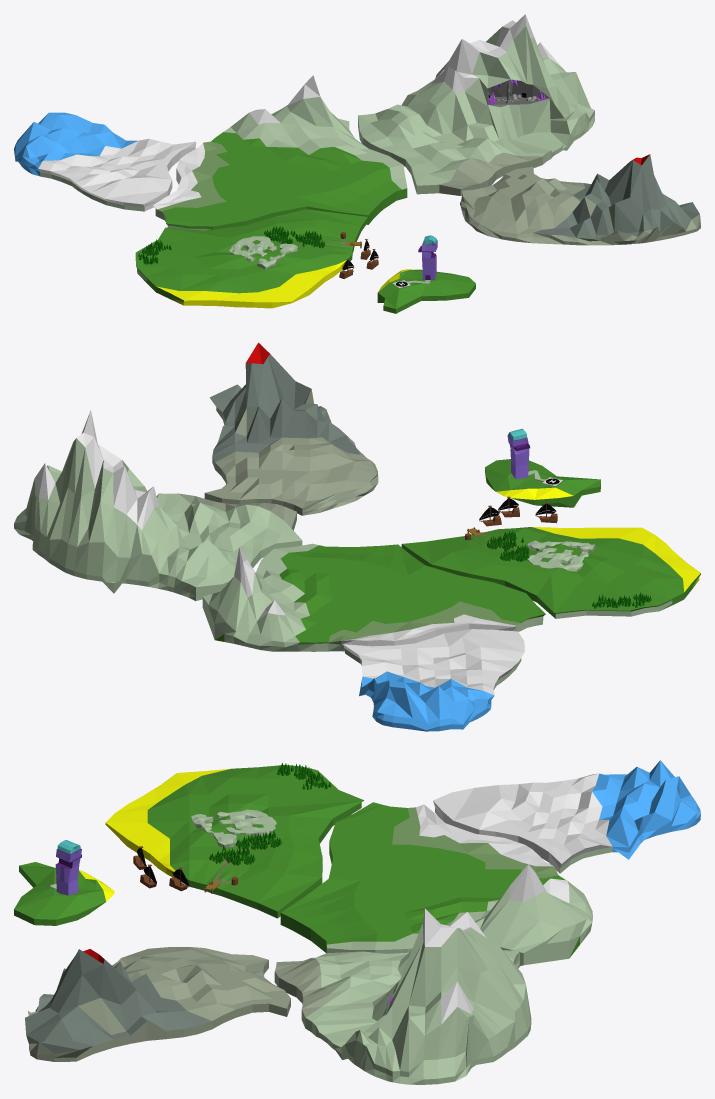
File: LowPolyBlokIsland.fbx
3 views of the same model, one above another, from view 1: azimuth 30°, elevation 25°; view 2: azimuth 150°, elevation 25°; view 3: azimuth 270°, elevation 25° (orthographic). The views are drawn at different scales.
Visible parts, largest first — view 1: Land, Cube.006, Land.001, Lavaland, Cube.007, Cube.001, Skull, Cube.002; view 2: Cube.006, Land, Lavaland, Land.001, Cube.007, Cube.001, Skull, Cube.002; view 3: Cube.006, Land, Land.001, Lavaland, Cube.007, Cube.001, Skull, Cube.002.
Part boxes in pixels (x1=…): Land: x1=358, y1=14, x2=594, y2=195; Cube.006: x1=153, y1=75, x2=407, y2=230; Land.001: x1=135, y1=209, x2=367, y2=308; Lavaland: x1=460, y1=154, x2=700, y2=245; Cube.007: x1=14, y1=112, x2=196, y2=211; Cube.001: x1=377, y1=269, x2=475, y2=313; Skull: x1=229, y1=236, x2=297, y2=269; Cube.002: x1=418, y1=235, x2=437, y2=279; Cube.006: x1=202, y1=543, x2=545, y2=651; Land: x1=14, y1=410, x2=302, y2=600; Lavaland: x1=204, y1=342, x2=378, y2=515; Land.001: x1=401, y1=527, x2=700, y2=618; Cube.007: x1=343, y1=629, x2=524, y2=731; Cube.001: x1=485, y1=459, x2=600, y2=507; Skull: x1=527, y1=540, x2=595, y2=571; Cube.002: x1=507, y1=428, x2=530, y2=479; Cube.006: x1=280, y1=802, x2=592, y2=965; Land: x1=274, y1=908, x2=531, y2=1084; Land.001: x1=105, y1=765, x2=364, y2=918; Lavaland: x1=25, y1=947, x2=290, y2=1061; Cube.007: x1=433, y1=760, x2=700, y2=873; Cube.001: x1=14, y1=862, x2=114, y2=925; Skull: x1=191, y1=809, x2=276, y2=847; Cube.002: x1=55, y1=840, x2=81, y2=895.
Size of what is drawn, in the model's own units: 1123 by 256 by 1037.
